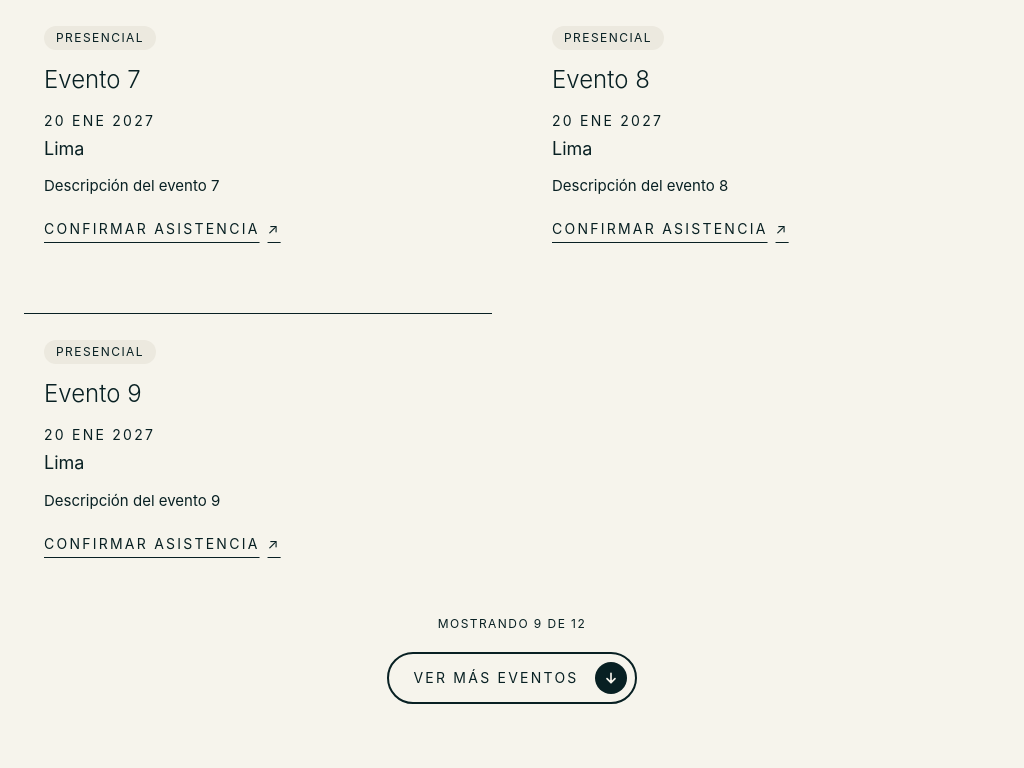
Scenario: SeccionMasEventos › al mostrar el último grupo el botón desaparece y el foco pasa al contador
(page scrolled)
Click the button "Ver más eventos": (512, 678) [387,652,637,704]
(page scrolled)
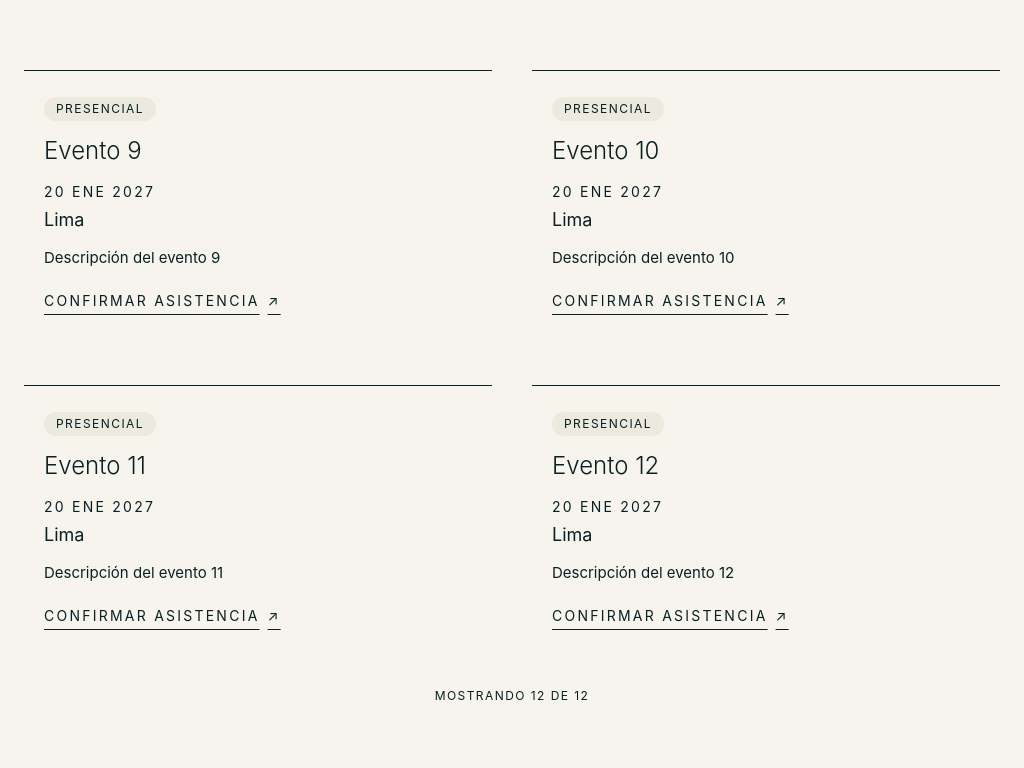
Result: the button "Ver más eventos" is gone
